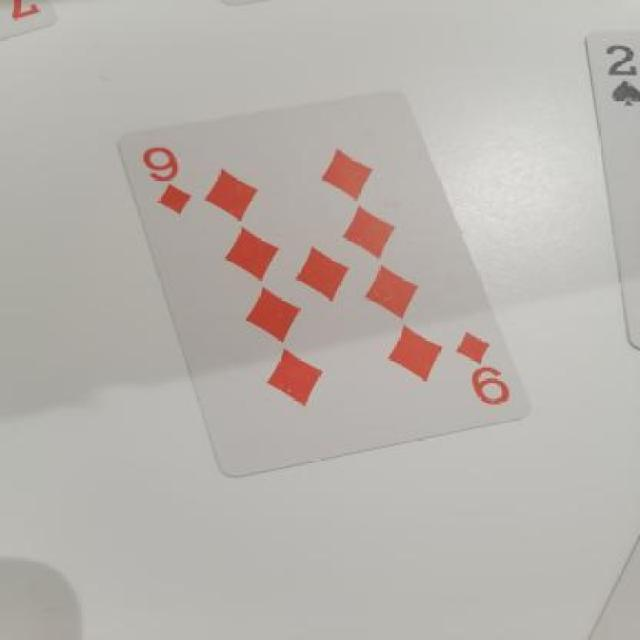9D: (120, 132, 208, 218), (446, 316, 517, 412)
